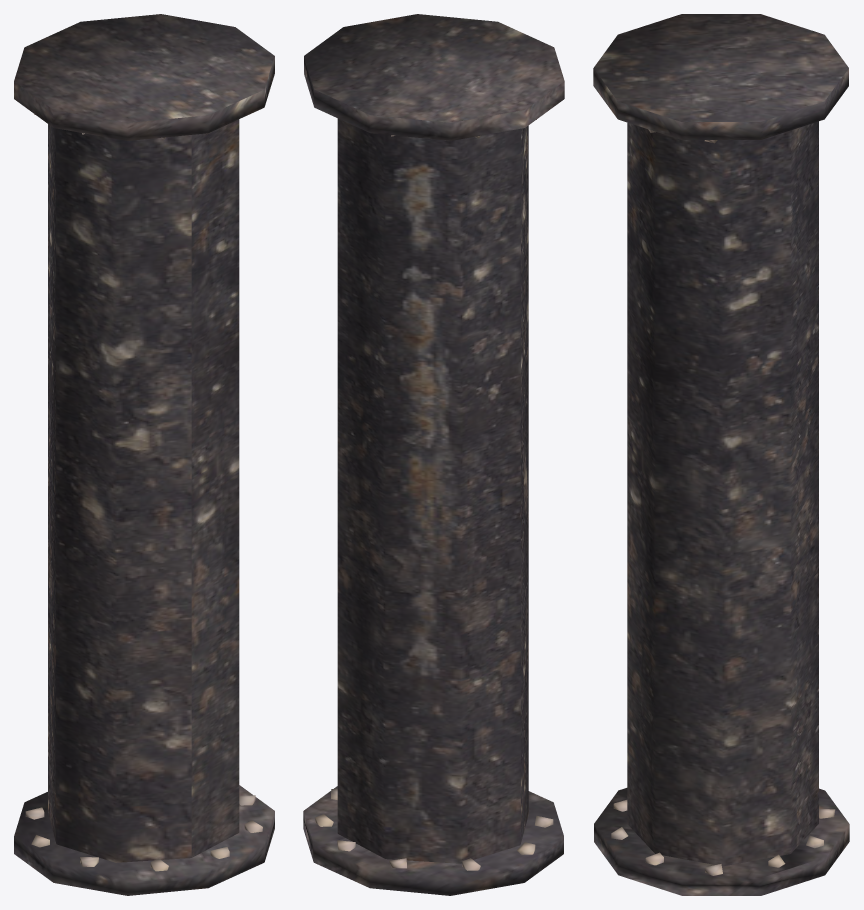
The model's file is Pipe01-model.fbx.
3 renders of one model, left to right at view 1: azimuth 30°, elevation 25°; view 2: azimuth 150°, elevation 25°; view 3: azimuth 270°, elevation 25°, orthographic.
Visible parts, largest first — view 1: putki1; view 2: putki1; view 3: putki1.
Boxes of the visible parts, x1,y1,x2,y2 form: putki1: [14, 14, 274, 895]; putki1: [303, 14, 564, 895]; putki1: [593, 14, 849, 895].
Size of the model in its own units: 3 by 10 by 3.
1 material, 1 textured.
